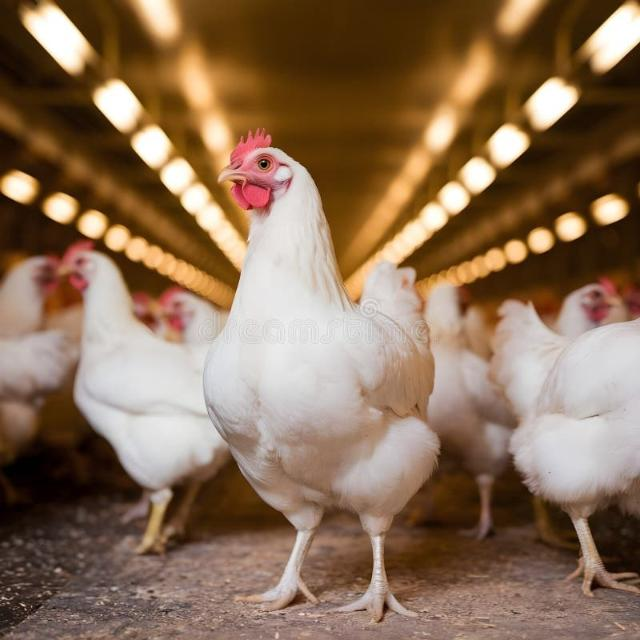Chicken: (200, 127, 443, 622), (53, 237, 233, 554), (507, 316, 640, 598), (489, 279, 627, 422), (0, 253, 82, 456), (159, 285, 224, 346)
